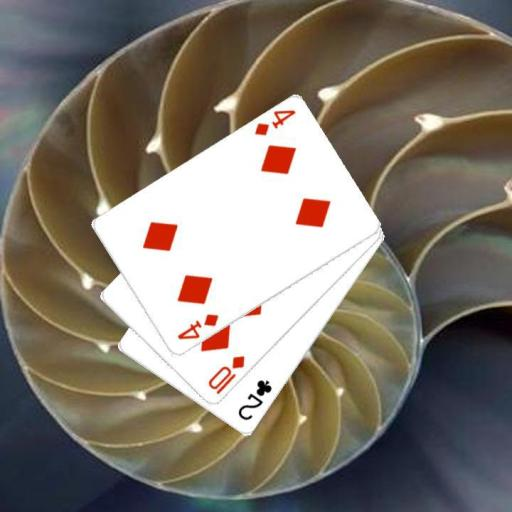10D: (205, 353, 247, 396)
2C: (235, 377, 274, 422)
4D: (251, 107, 298, 138), (175, 311, 221, 342)
